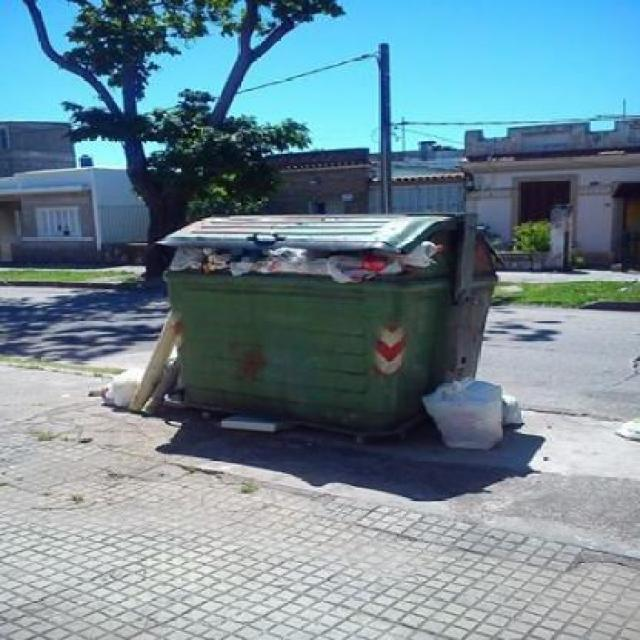garbage: (163, 242, 404, 279), (418, 379, 514, 446)
